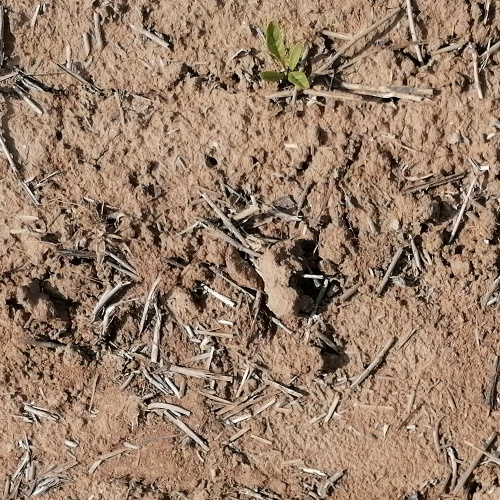beet: (260, 18, 310, 91)
